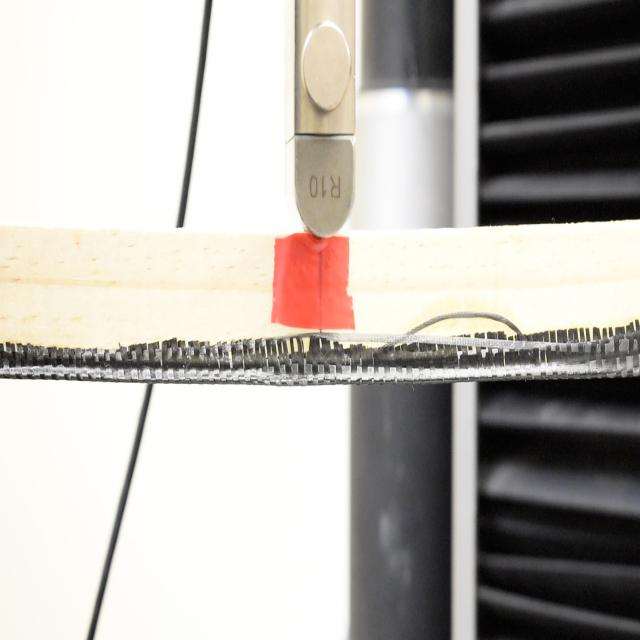wood: (0, 222, 639, 383)
